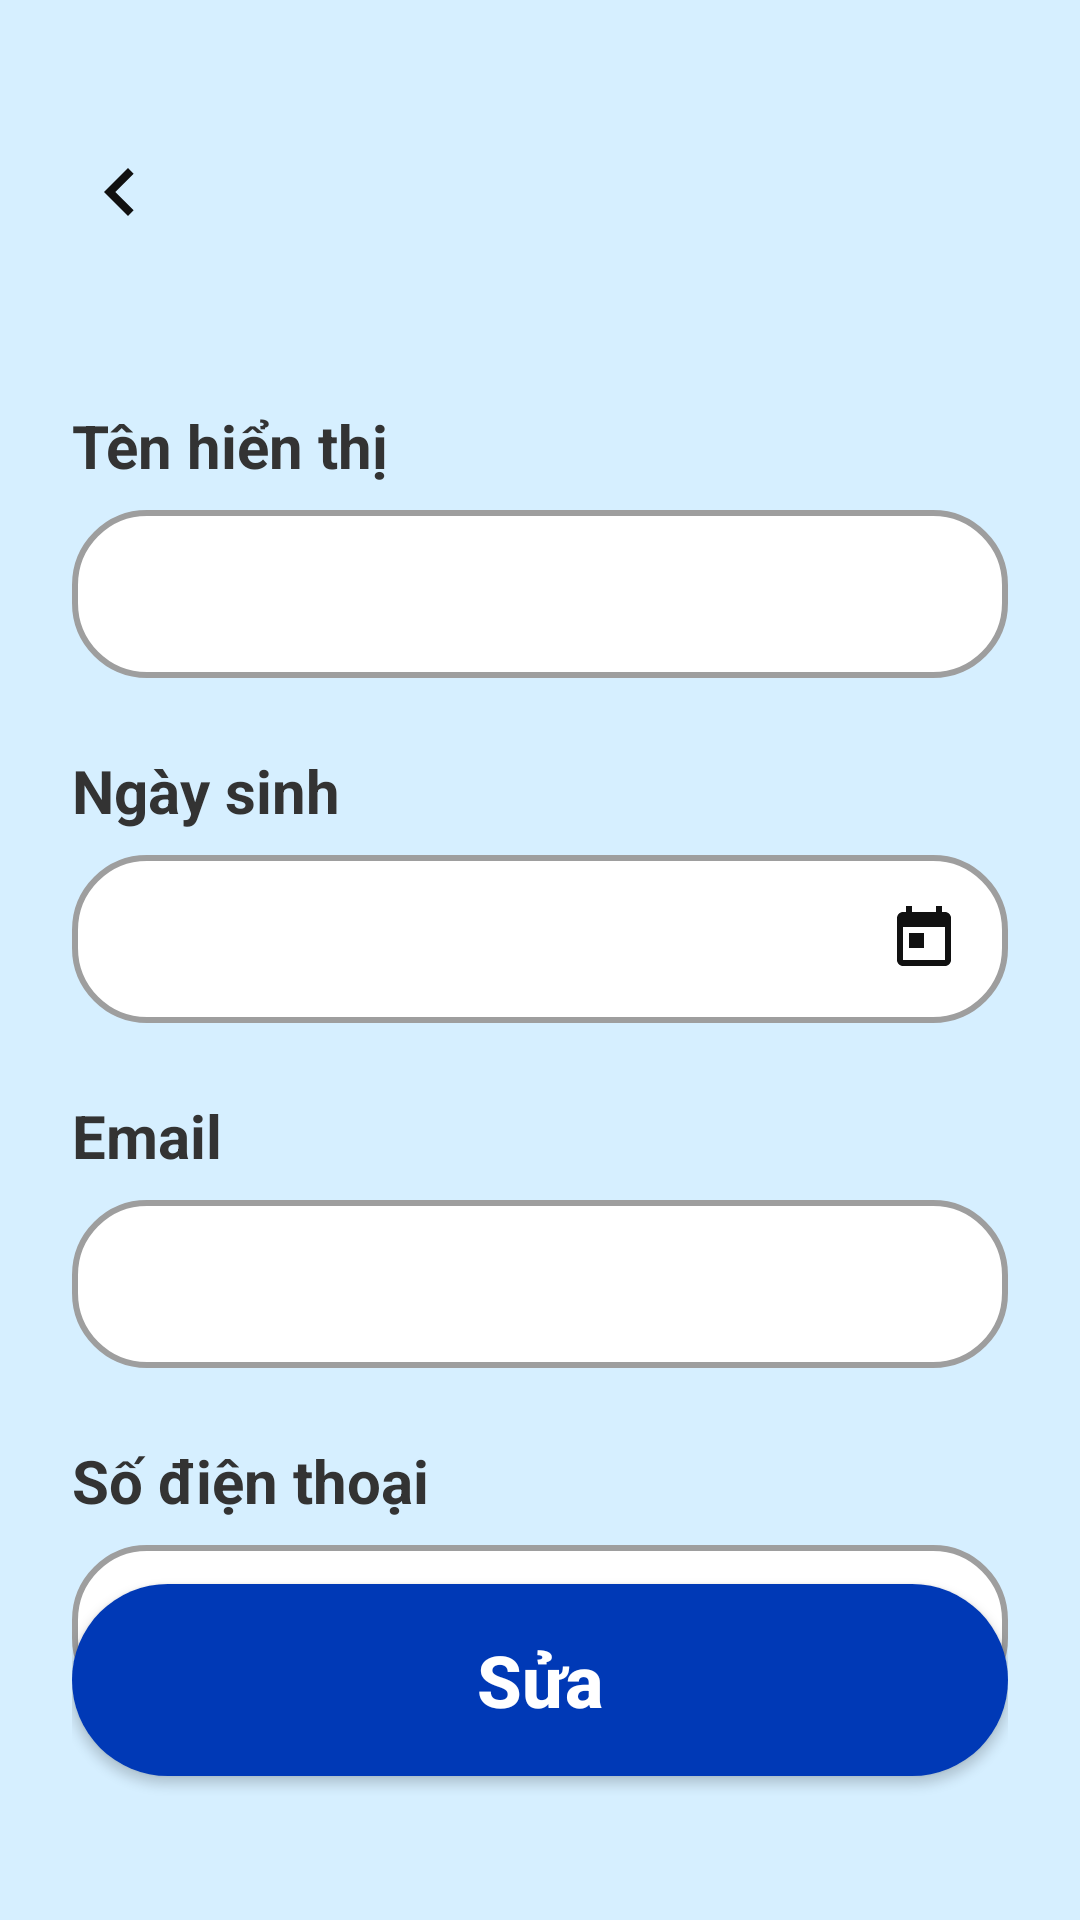

Named icons in this screenshot (1080×1920) and their bounding boxes, (x1, y1, x2, y2):
back arrow: (104, 168, 134, 216)
calendar: (897, 906, 951, 966)
